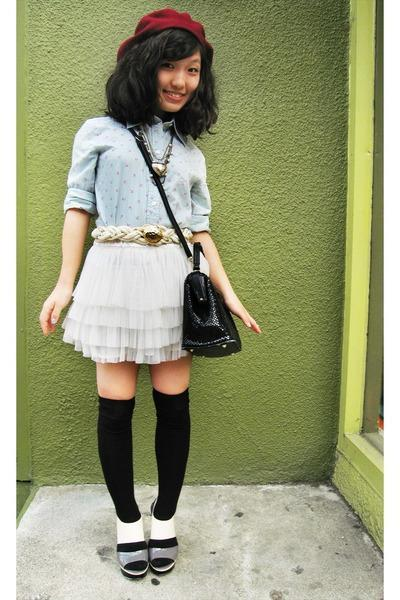bag: (121, 123, 241, 357)
dress: (62, 117, 211, 363)
hat: (141, 9, 204, 39)
shoe: (101, 516, 179, 581)
